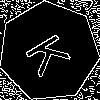K: (24, 26, 80, 79)
